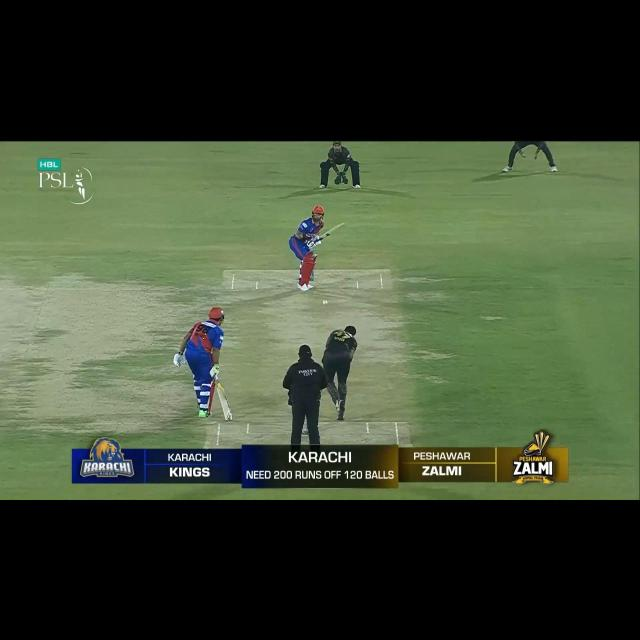bat: (218, 387, 232, 421), (320, 223, 345, 240)
toe: (224, 411, 232, 420), (336, 222, 344, 229)
